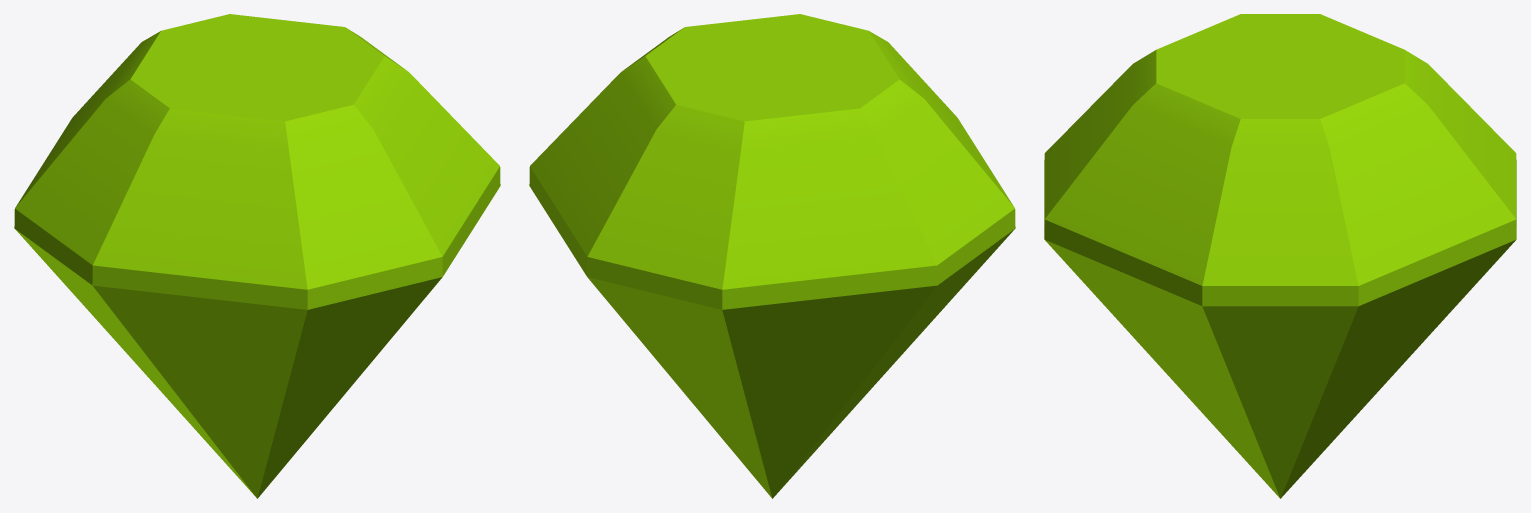
Rendered from Gem_Green.glb.
The picture shows the model from 3 angles, left to right: view 1: azimuth 30°, elevation 25°; view 2: azimuth 150°, elevation 25°; view 3: azimuth 270°, elevation 25°; orthographic projection.
Visible parts, largest first — view 1: UI_Gem_Green; view 2: UI_Gem_Green; view 3: UI_Gem_Green.
Boxes of the visible parts, x1,y1,x2,y2 form: UI_Gem_Green: [14, 14, 500, 498]; UI_Gem_Green: [529, 14, 1015, 498]; UI_Gem_Green: [1044, 14, 1516, 498].
Size of the model in its own units: 0.5602 by 0.5657 by 0.5602.
1 material, 1 textured.
